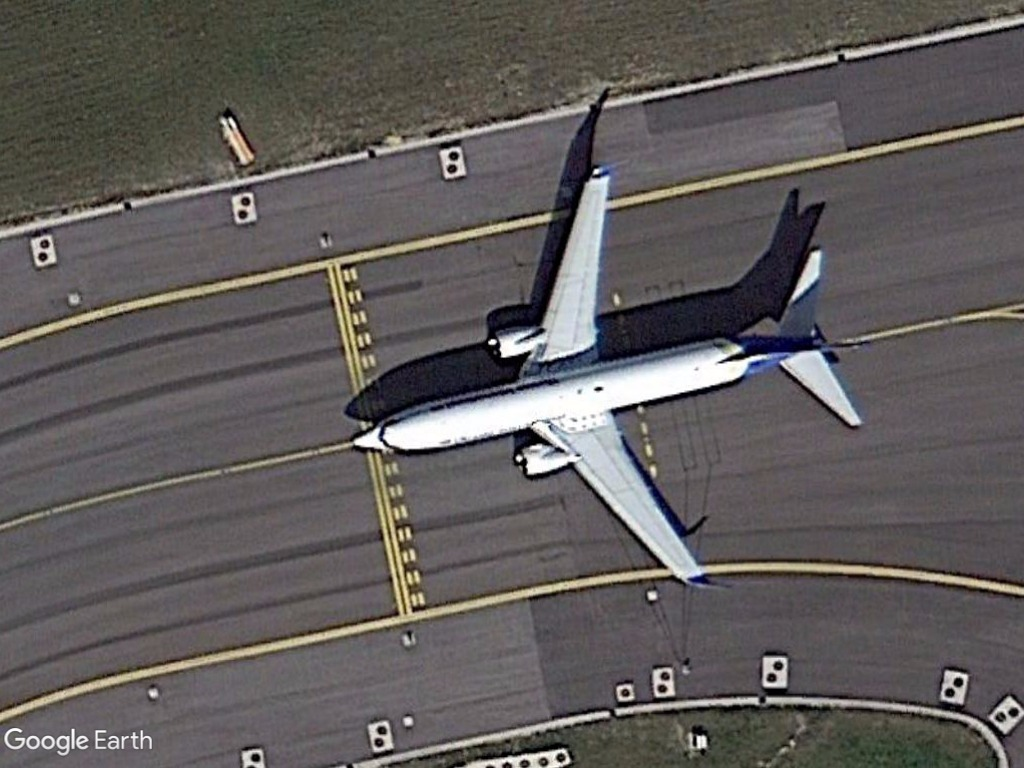airliner: (342, 156, 875, 594)
